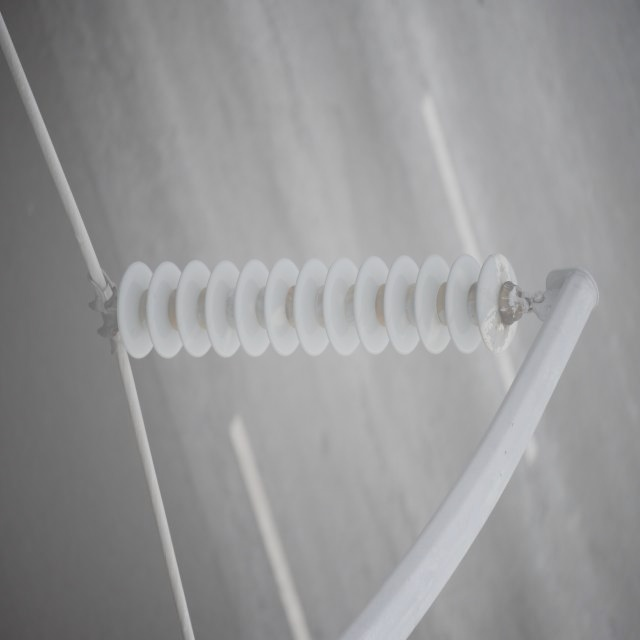insulator: (118, 253, 520, 361)
